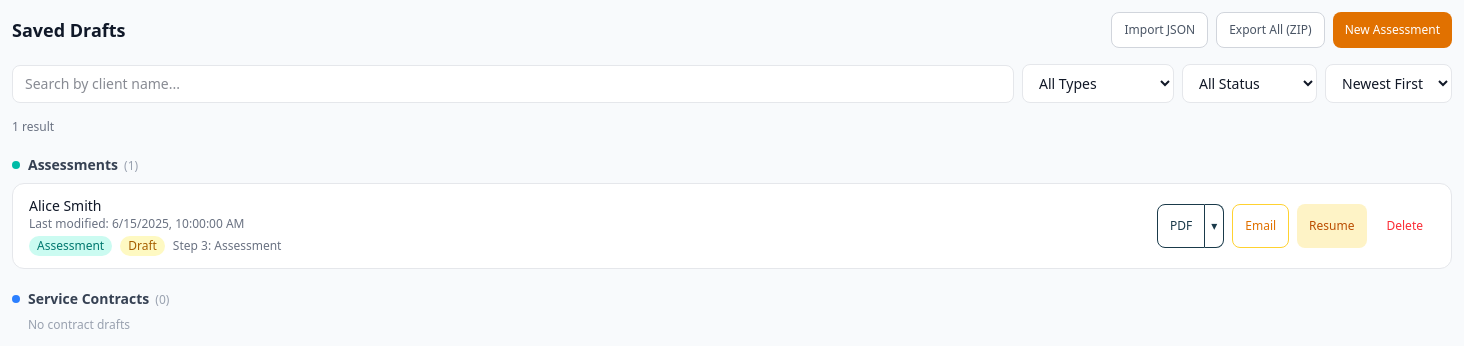
Test: DraftManager › delete confirmation › hides confirm buttons when Cancel is clicked
This screenshot has width=1464, height=346.
What coordinates should you click on to do the following:
click the button "Delete"
I would click on:
 (1405, 226)
Its box is [1374, 204, 1435, 248].
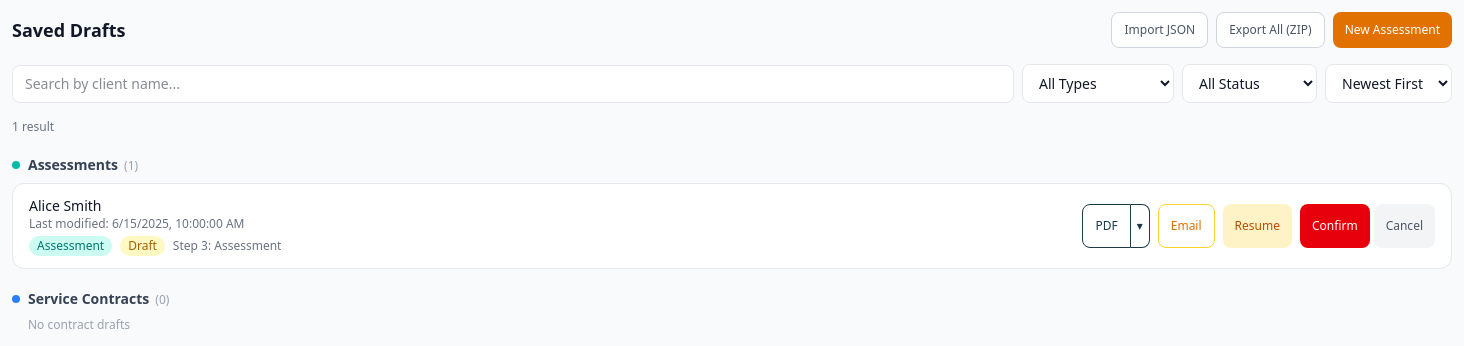
Expected: the button "Confirm" is shown, [1300, 204, 1370, 248]
What coordinates should you click on to do the following:
click the button "Cancel"
I would click on:
 (1404, 226)
Its box is [1374, 204, 1435, 248].
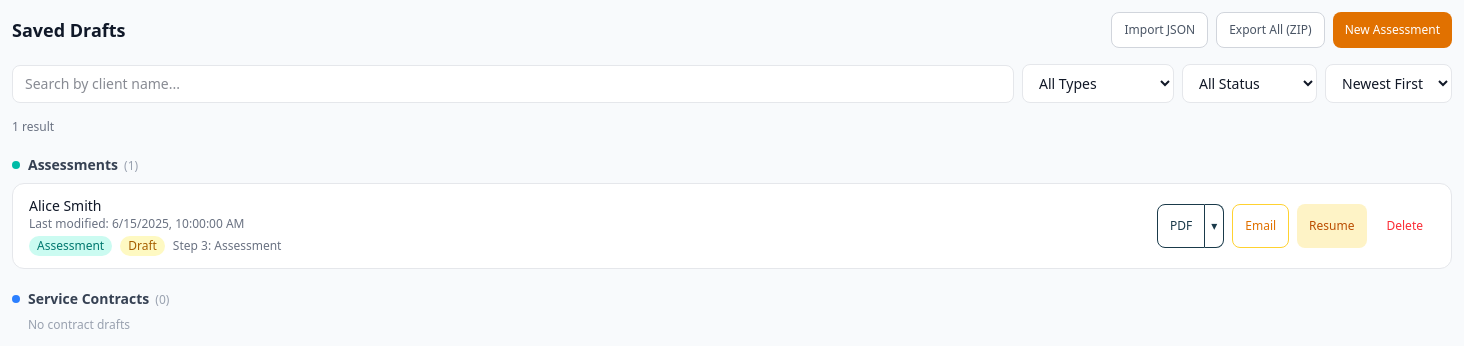
Expected: the button "Confirm" is gone
Expected: the button "Delete" is shown, [1374, 204, 1435, 248]
